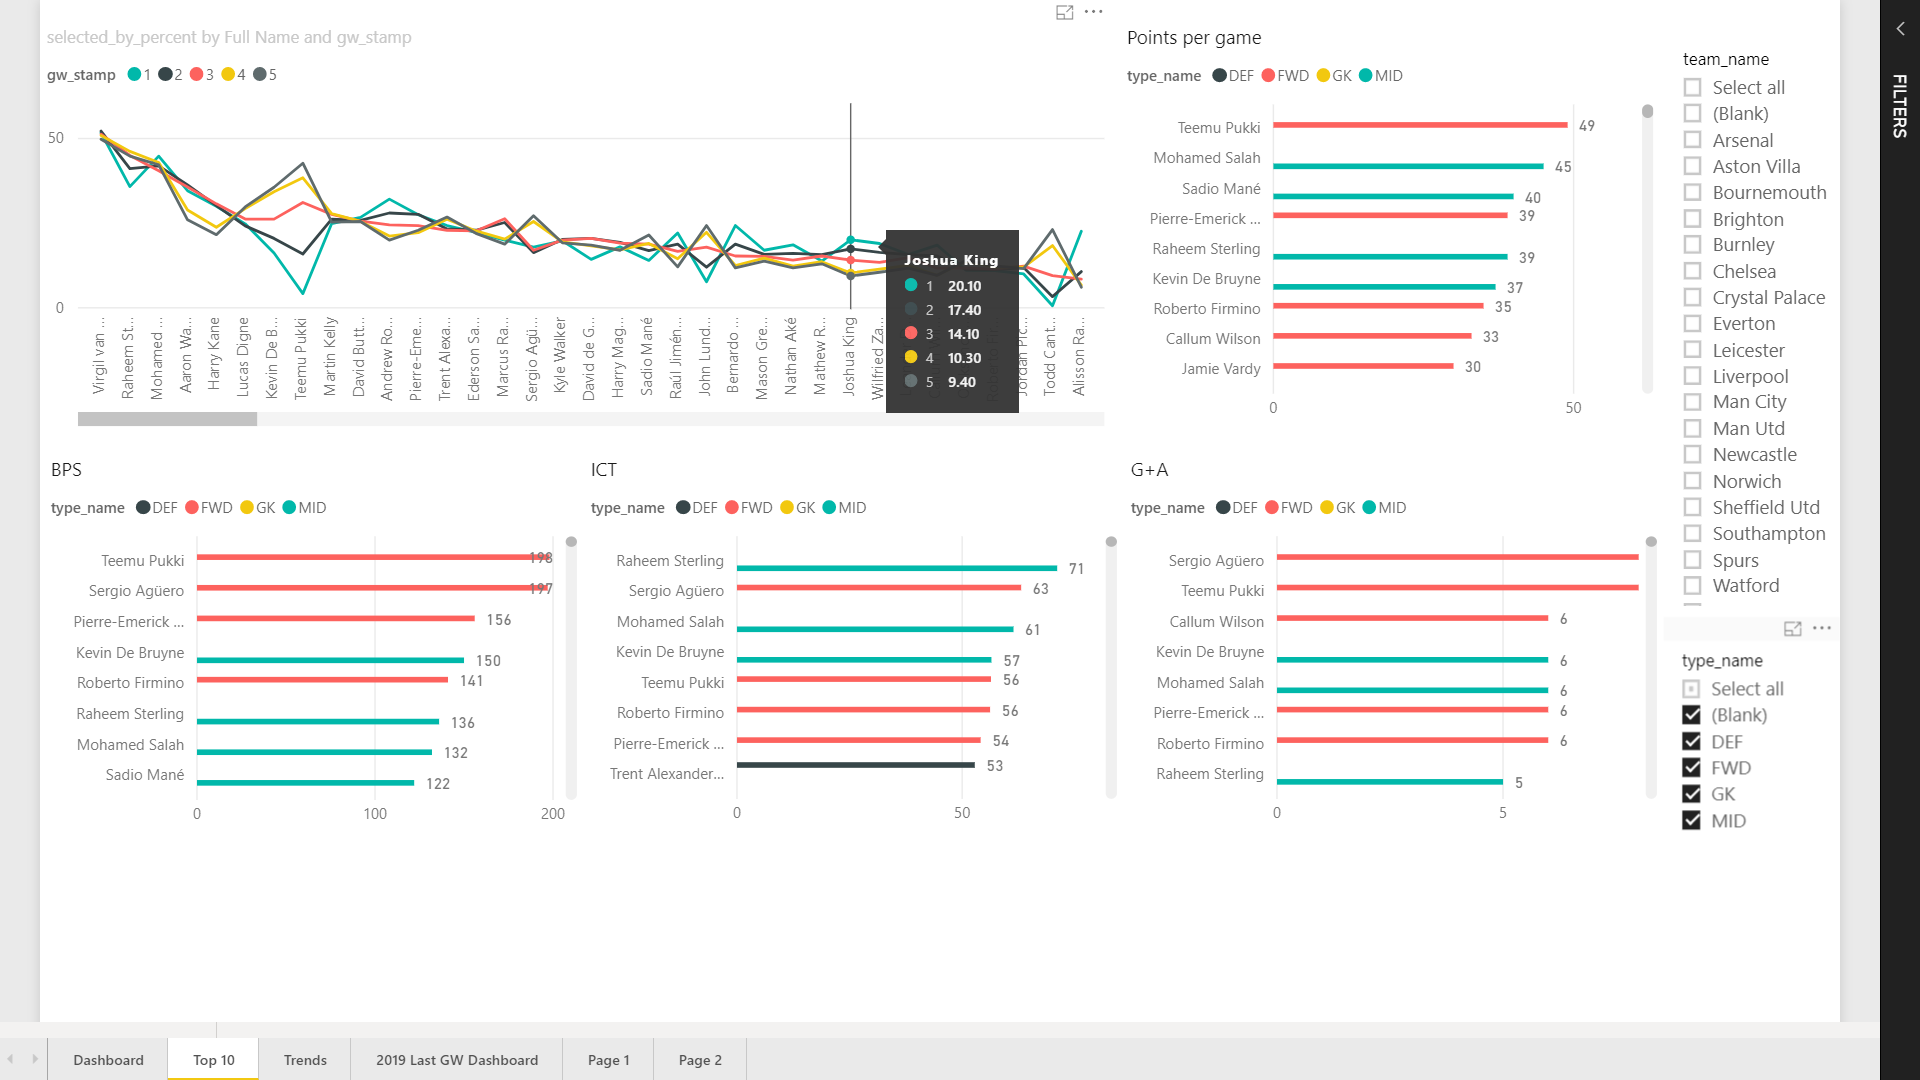

The page's visual inventory and layout, read from the dashboard file:
{"tool":"powerbi","page":{"name":"Top 10","canvas":[1280,720],"ordinal":1},"visuals":[{"type":"lineChart","fields":{"Category":["public lu_player.Full Name"],"Y":["public fact_player.selected_by_percent"]},"box":[0,0,364.8,290.4],"z":1},{"type":"lineChart","fields":{"Y":["public fact_player.total_points"],"Category":["public fact_team.team_name"],"Series":["public fact_player.gw_stamp"]},"box":[729.6,0,550.3,290.4],"z":1},{"type":"clusteredBarChart","title":"Points per game","fields":{"Y":["public fact_player.form"],"Series":["public lu_playertype.type_name"],"Category":["public lu_player.Full Name"]},"box":[364.8,0,364.8,300.9],"z":4000},{"type":"clusteredBarChart","title":"G+A","fields":{"Category":["public fact_player.web_name"],"Y":["public fact_player.Assists+Goals"],"Series":["public lu_playertype.type_name"]},"box":[0,300.9,364.8,300.9],"z":4000}]}

Visuals, with their boxes on the page's 1280x720 design canvas (x1, y1, x2, y2). These are canvas units, not pixel positions in the 1920x1080 screenshot, which may show the page scaled, cropped or inside an application window:
lineChart - public lu_player.Full Name x public fact_player.selected_by_percent: <region>0, 0, 365, 290</region>
lineChart - public fact_player.total_points x public fact_team.team_name: <region>730, 0, 1280, 290</region>
"Points per game" clusteredBarChart: <region>365, 0, 730, 301</region>
"G+A" clusteredBarChart: <region>0, 301, 365, 602</region>
